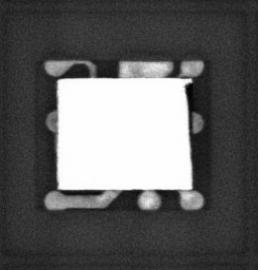DIE_BROKEN: (183, 80, 193, 136)
